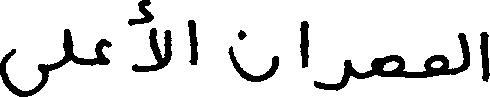X: (228, 25, 278, 86), (135, 0, 171, 76), (0, 44, 45, 96), (315, 55, 350, 95), (375, 50, 401, 81), (425, 50, 445, 82), (188, 15, 198, 69), (480, 27, 489, 86), (96, 34, 111, 69), (459, 28, 467, 77), (301, 16, 307, 72), (65, 24, 70, 68)
